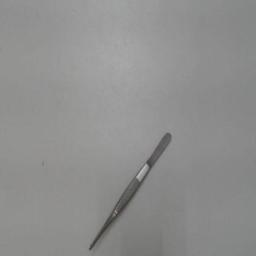Gillies Toothed Dissector: (84, 130, 182, 254)
